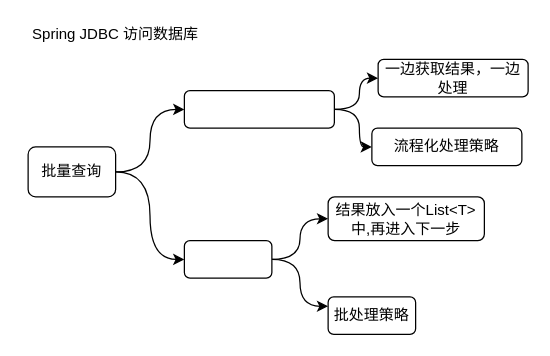
Some shapes in this 550 by 356 pixel diagram are drawn without their labels. Each missing label, with the centre of its shape:
RowCallBackHandler: the point at 258,108
RowMapper: the point at 227,258
